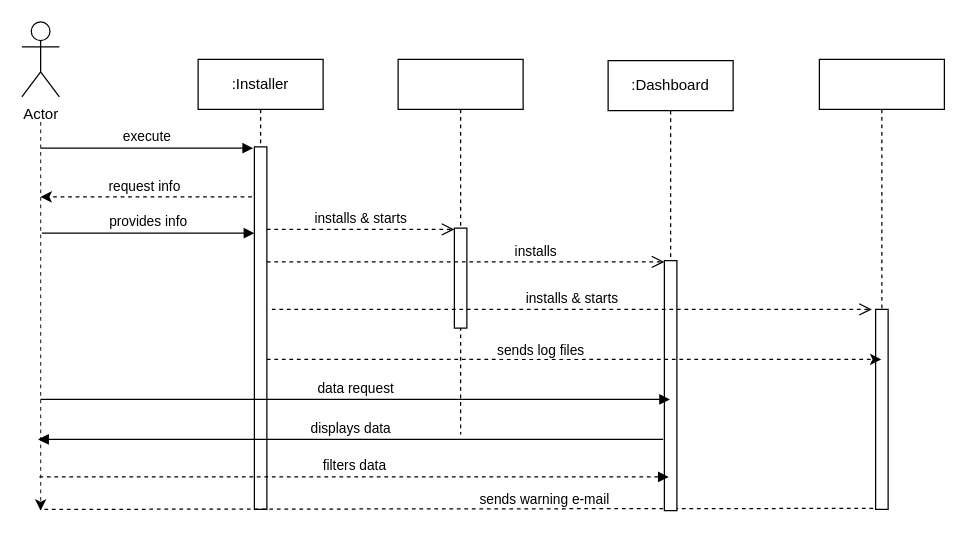
Image size: 966x543. Some labels were removed from this diagram. Here are the shapes that lost their labels. From the top down, the box of each, then its label:
(397, 58, 523, 434): :Monitor
(818, 58, 944, 509): :Alarm
